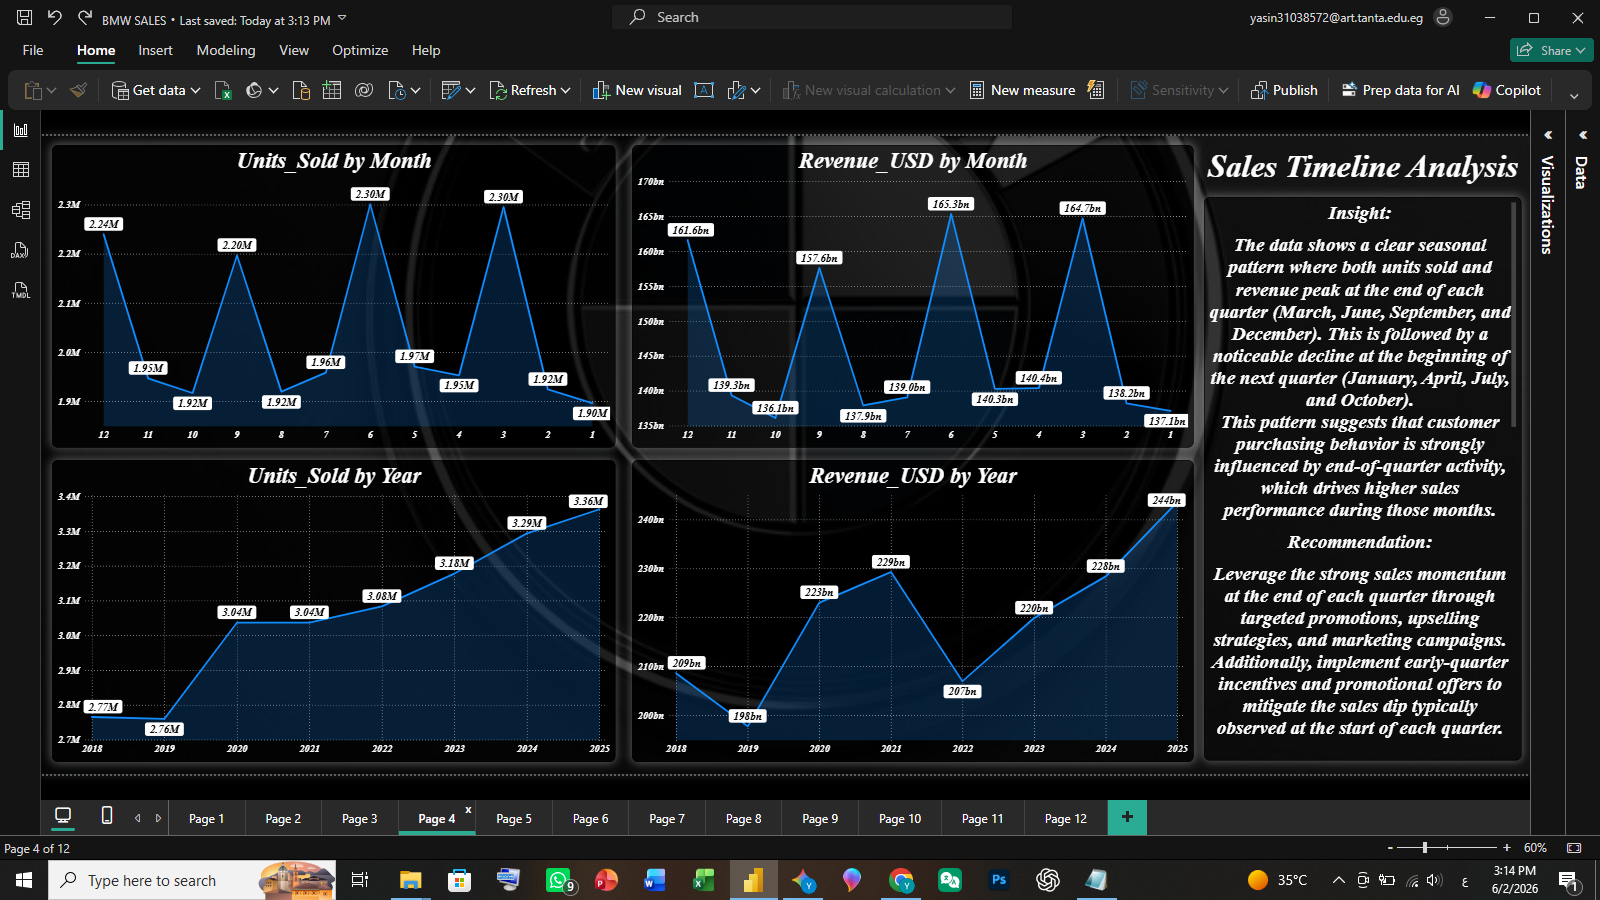

The dashboard page shown, as its layout file describes it:
{"tool":"powerbi","page":{"name":"Page 4","canvas":[2500,1070],"ordinal":3},"visuals":[{"type":"areaChart","title":" Units_Sold by Month","fields":{"Category":["bmw_global_sales_2018_2025.Month"],"Y":["Sum(bmw_global_sales_2018_2025.Units_Sold)"]},"box":[18.9,15.5,946.1,508.2],"z":0},{"type":"areaChart","title":"Revenue_USD by Month","fields":{"Category":["bmw_global_sales_2018_2025.Month"],"Y":["Sum(bmw_global_sales_2018_2025.Revenue_USD)"]},"box":[992.4,15.5,942.7,508.2],"z":1000},{"type":"areaChart","title":" Units_Sold by Year","fields":{"Category":["bmw_global_sales_2018_2025.Year"],"Y":["Sum(bmw_global_sales_2018_2025.Units_Sold)"]},"box":[18.9,544.3,946.1,506.5],"z":2000},{"type":"areaChart","title":" Revenue_USD by Year","fields":{"Category":["bmw_global_sales_2018_2025.Year"],"Y":["Sum(bmw_global_sales_2018_2025.Revenue_USD)"]},"box":[992.4,544.3,942.7,506.5],"z":3000},{"type":"textbox","box":[1952.3,15.5,534,89.3],"z":4000},{"type":"textbox","box":[1952.5,103.2,533.3,946.1],"z":5000}]}

Visuals, with their boxes on the page's 2500x1070 design canvas (x1, y1, x2, y2). These are canvas units, not pixel positions in the 1600x900 screenshot, which may show the page scaled, cropped or inside an application window:
" Units_Sold by Month" areaChart: detection(19, 16, 965, 524)
"Revenue_USD by Month" areaChart: detection(992, 16, 1935, 524)
" Units_Sold by Year" areaChart: detection(19, 544, 965, 1051)
" Revenue_USD by Year" areaChart: detection(992, 544, 1935, 1051)
textbox: detection(1952, 16, 2486, 105)
textbox: detection(1952, 103, 2486, 1049)
